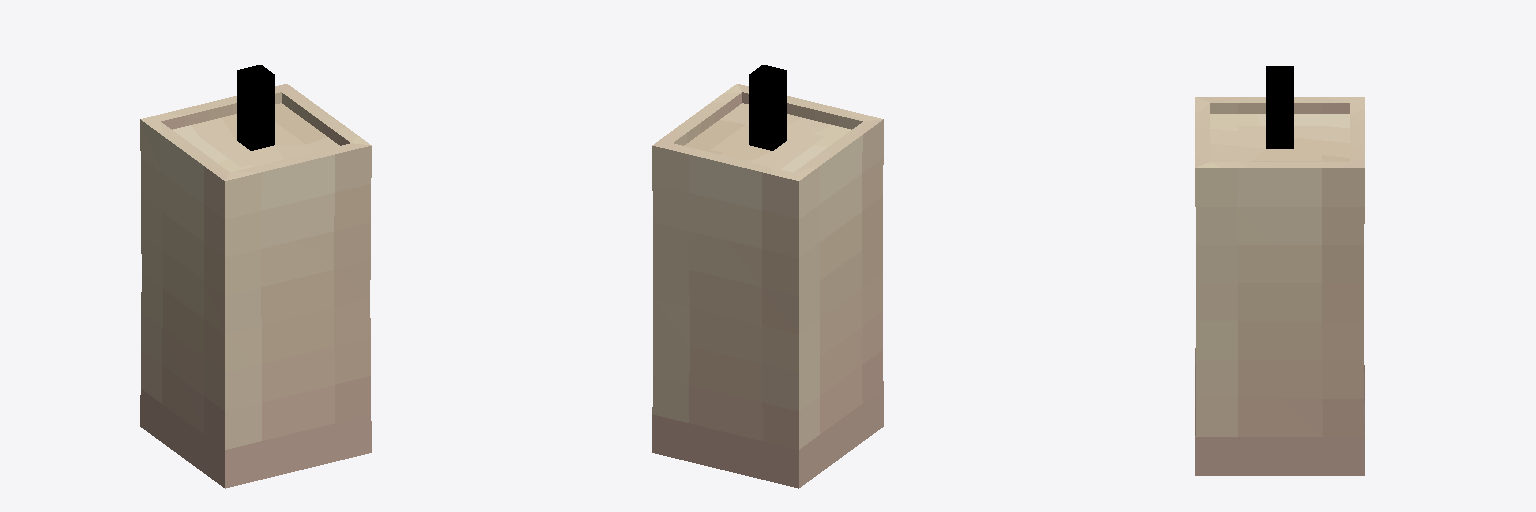
3 views of the same model, side by side, from view 1: azimuth 30°, elevation 25°; view 2: azimuth 150°, elevation 25°; view 3: azimuth 270°, elevation 25° (orthographic).
Parts seen in each view (by area): view 1: Cube; view 2: Cube; view 3: Cube.
Boxes of the visible parts, box(x1,y1,x2,y2) form: Cube: box(140, 65, 371, 488); Cube: box(652, 65, 883, 488); Cube: box(1195, 66, 1364, 475).
Size of the model in its own units: 0.8 by 1.91 by 0.8.
Materials: 1 (1 with a texture image).